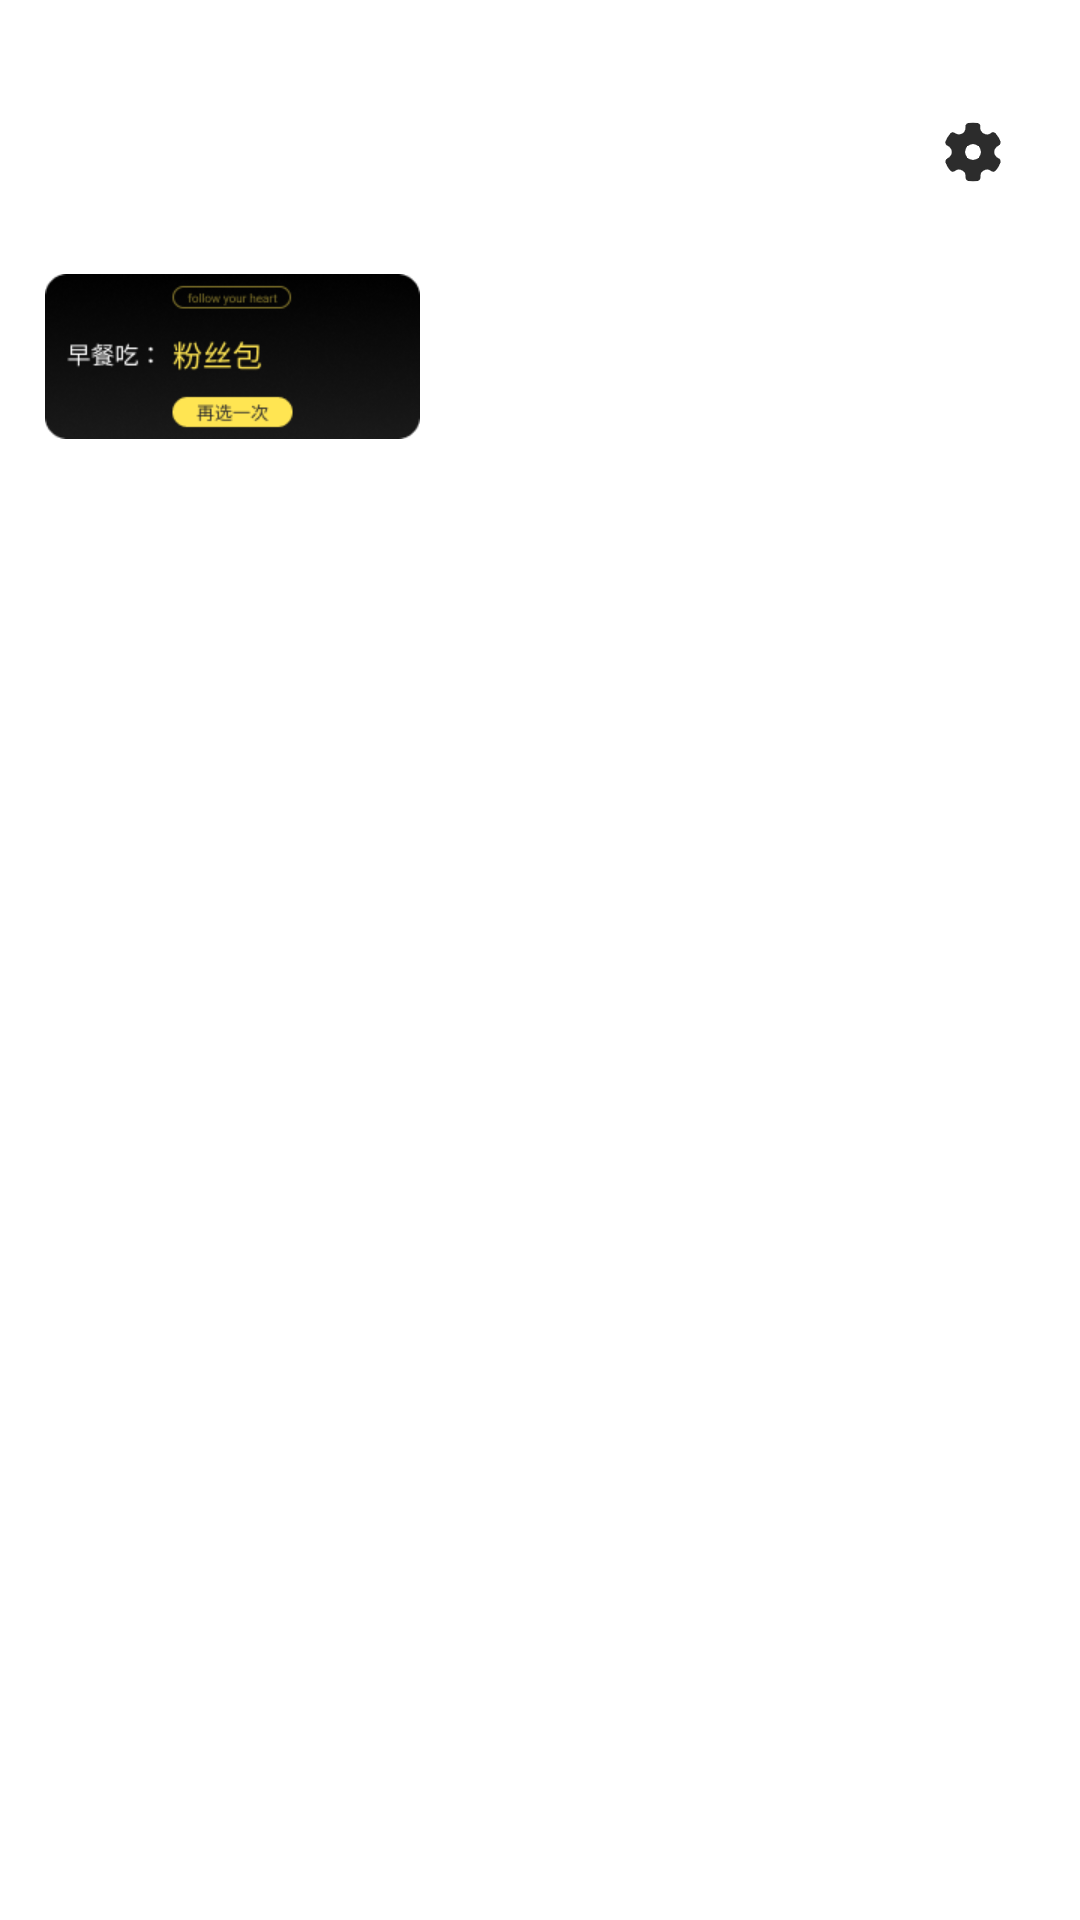

Icons on this 1080*1920 Android screen, each with its box as (left=x1, top=y1, right=x2, bottom=y2):
setting: (left=945, top=122, right=1001, bottom=182)
